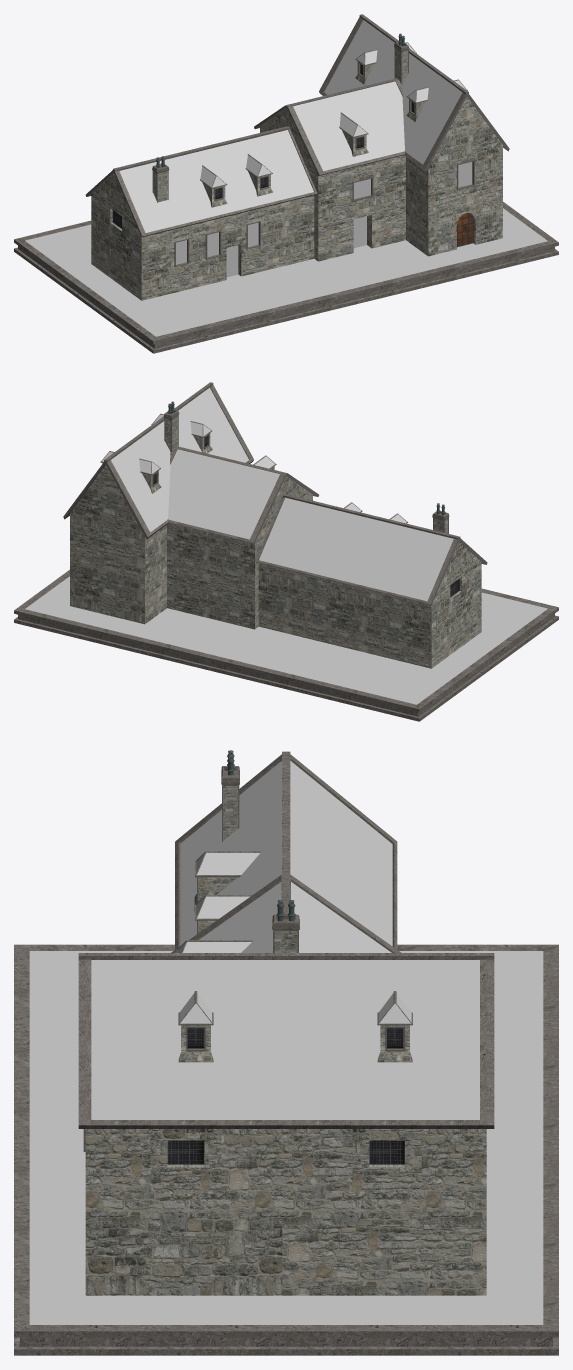
The model's file is objHouse.obj.
The picture shows the model from 3 angles, top to bottom: view 1: azimuth 30°, elevation 25°; view 2: azimuth 150°, elevation 25°; view 3: azimuth 270°, elevation 25°; orthographic projection. The views are drawn at different scales.
Visible parts, largest first — view 1: House pCylinder39, House floor, pCube245 House, House pCube244, House pCube249, House pCylinder35, House pCylinder40, House pCube251, House pCube250; view 2: House pCylinder39, House floor, House pCylinder40, House pCube250, House pCube251; view 3: House pCylinder39, House floor, House pCube244, House pCube248, House pCube247, House pCylinder35, House pCylinder40, House pCube249, pCube245 House.
Part boxes in pixels (<box>): House pCylinder39: <box>85,14,509,300</box>; House floor: <box>14,202,558,353</box>; pCube245 House: <box>339,112,368,156</box>; House pCube244: <box>200,165,227,207</box>; House pCube249: <box>245,154,272,196</box>; House pCylinder35: <box>152,156,169,202</box>; House pCylinder40: <box>394,33,409,84</box>; House pCube251: <box>355,49,377,84</box>; House pCube250: <box>406,87,428,121</box>; House pCylinder39: <box>63,382,487,668</box>; House floor: <box>14,570,558,721</box>; House pCylinder40: <box>163,401,179,451</box>; House pCube250: <box>190,421,212,453</box>; House pCube251: <box>139,458,161,493</box>; House pCylinder39: <box>78,751,494,1295</box>; House floor: <box>14,944,558,1355</box>; House pCube244: <box>194,851,261,913</box>; House pCube248: <box>377,991,412,1062</box>; House pCube247: <box>178,991,213,1062</box>; House pCylinder35: <box>221,750,239,841</box>; House pCylinder40: <box>272,900,299,952</box>; House pCube249: <box>195,895,252,933</box>; pCube245 House: <box>176,940,253,952</box>.
Size of the model in its own units: 9.56 by 4.29 by 5.7.
